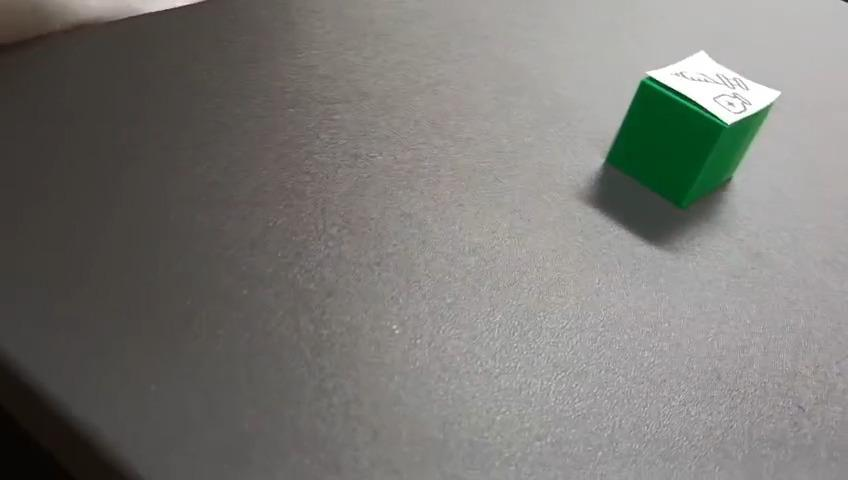antiseptic cream: (603, 48, 782, 209)
